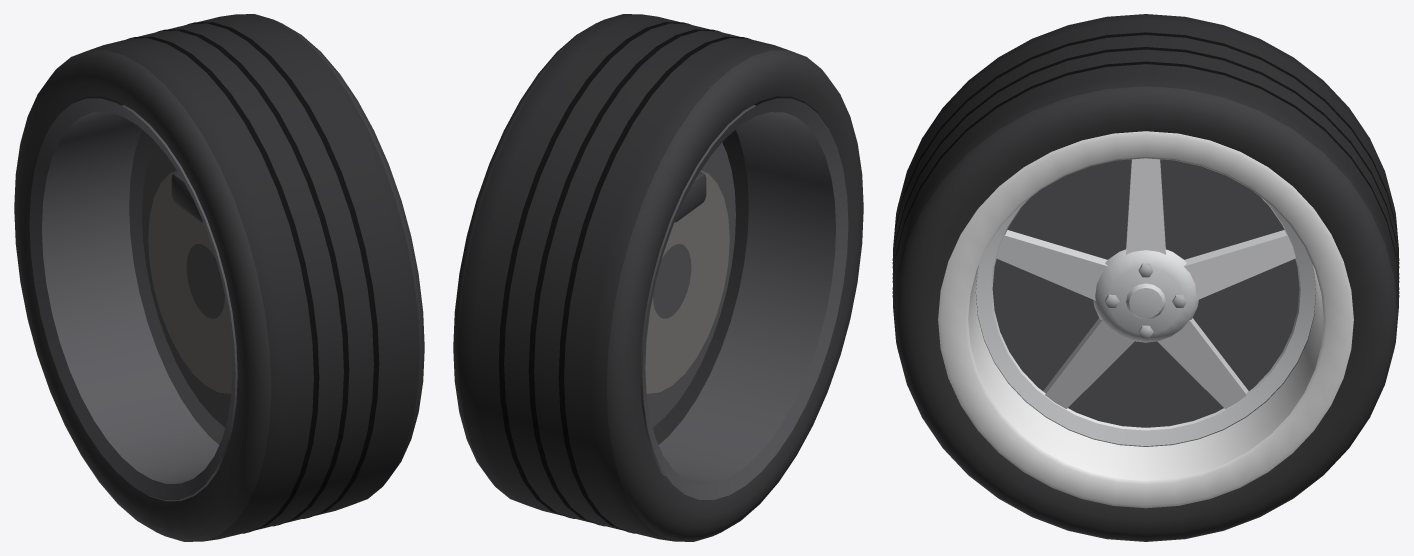
Rendered from wheel_ryu_5spoke.glb.
3 views of the same model, side by side, from view 1: azimuth 30°, elevation 25°; view 2: azimuth 150°, elevation 25°; view 3: azimuth 270°, elevation 25° (orthographic).
Visible parts, largest first — view 1: wheel_ryu_5spoke; view 2: wheel_ryu_5spoke; view 3: wheel_ryu_5spoke.
Part boxes in pixels (x1=…): wheel_ryu_5spoke: x1=14, y1=14, x2=424, y2=541; wheel_ryu_5spoke: x1=453, y1=14, x2=863, y2=541; wheel_ryu_5spoke: x1=892, y1=14, x2=1399, y2=541.
Size of the model in its own units: 0.265 by 0.6612 by 0.6612.
Materials: 1 (1 with a texture image).
